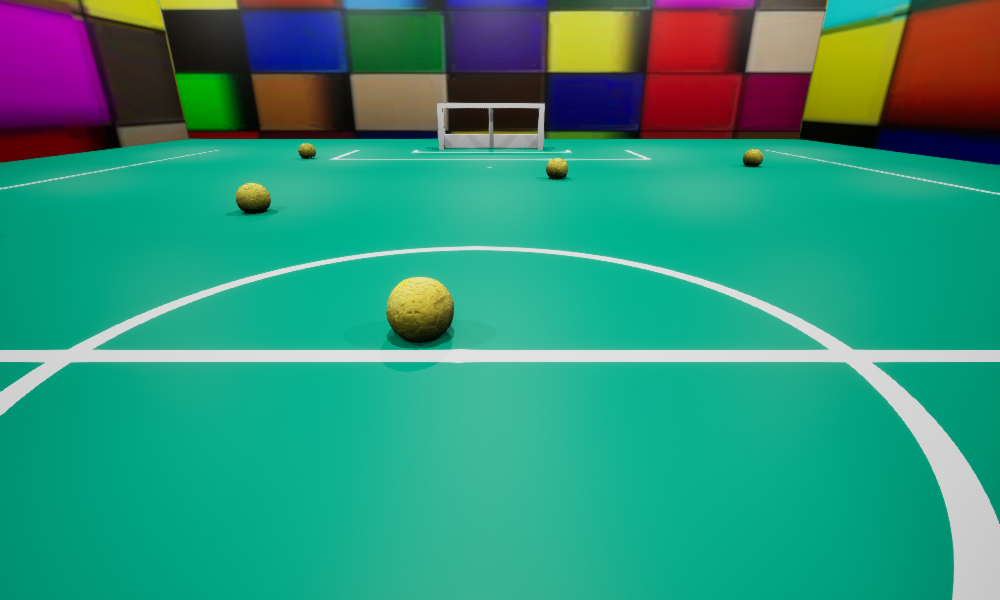b: (386, 277, 453, 340), (236, 183, 270, 212), (546, 158, 567, 178), (743, 149, 762, 166), (298, 143, 315, 158)
g: (437, 103, 544, 149)
